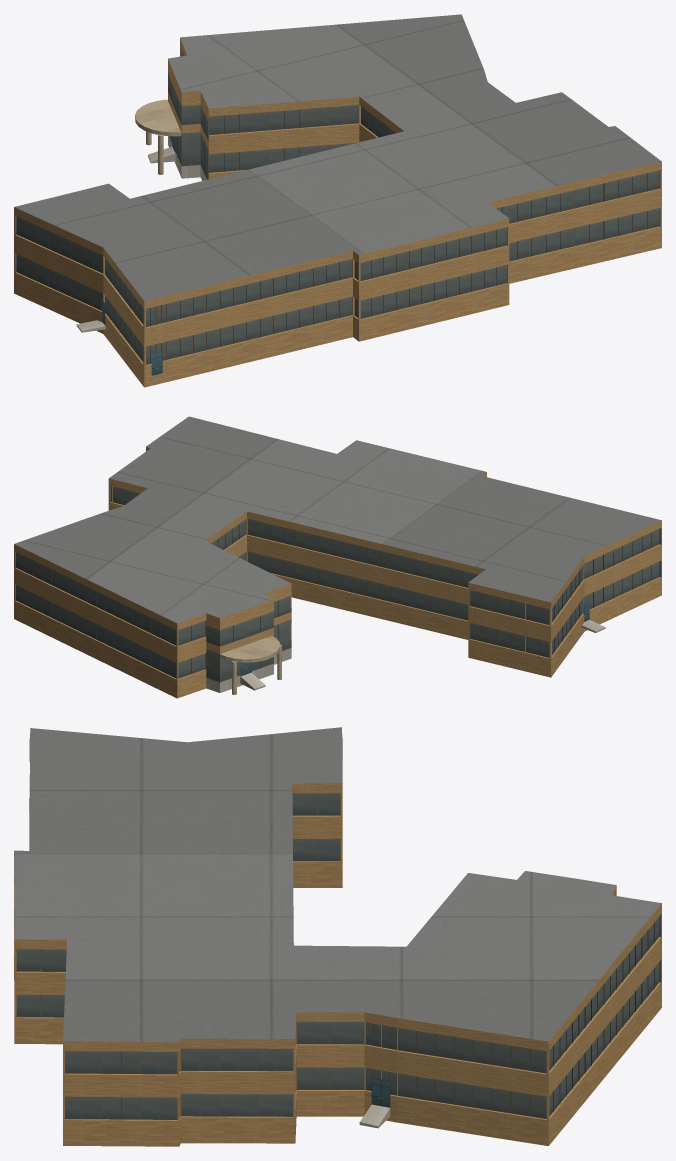
The model's file is physics_building.glb.
3 renders of one model, top to bottom at view 1: azimuth 30°, elevation 25°; view 2: azimuth 150°, elevation 25°; view 3: azimuth 270°, elevation 25°, orthographic. The views are drawn at different scales.
Visible parts, largest first — view 1: physics_building_CampusAtlas_facade.041, physics_building_CampusAtlas_glass.041; view 2: physics_building_CampusAtlas_facade.041, physics_building_CampusAtlas_glass.041; view 3: physics_building_CampusAtlas_facade.041, physics_building_CampusAtlas_glass.041.
Part boxes in pixels (<box>): physics_building_CampusAtlas_facade.041: <box>14,14,661,387</box>; physics_building_CampusAtlas_glass.041: <box>15,47,660,375</box>; physics_building_CampusAtlas_facade.041: <box>14,416,661,698</box>; physics_building_CampusAtlas_glass.041: <box>15,486,661,682</box>; physics_building_CampusAtlas_facade.041: <box>14,727,661,1146</box>; physics_building_CampusAtlas_glass.041: <box>16,738,661,1119</box>.
Size of the model in its own units: 60.76 by 9.4 by 52.82.
Materials: 2 (2 with a texture image).
